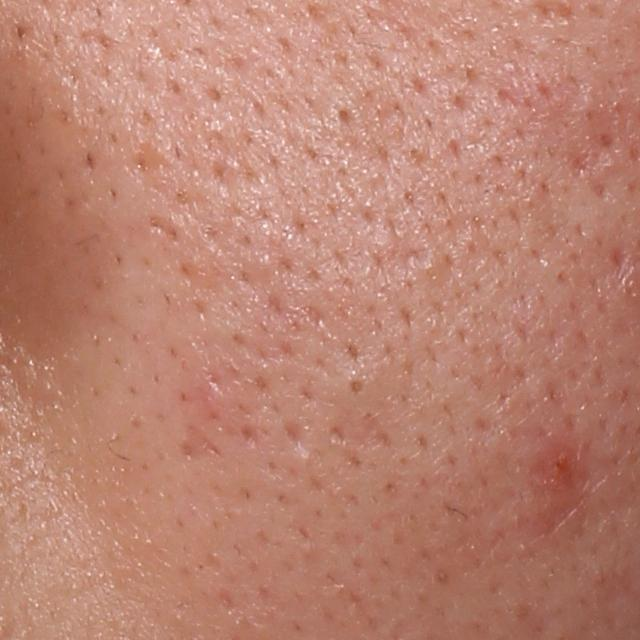atrophic_scar: (123, 137, 174, 183), (179, 423, 221, 460), (142, 212, 187, 246), (280, 419, 311, 459)
comedo: (335, 364, 382, 408), (328, 104, 357, 135)
papule: (532, 449, 586, 513)
